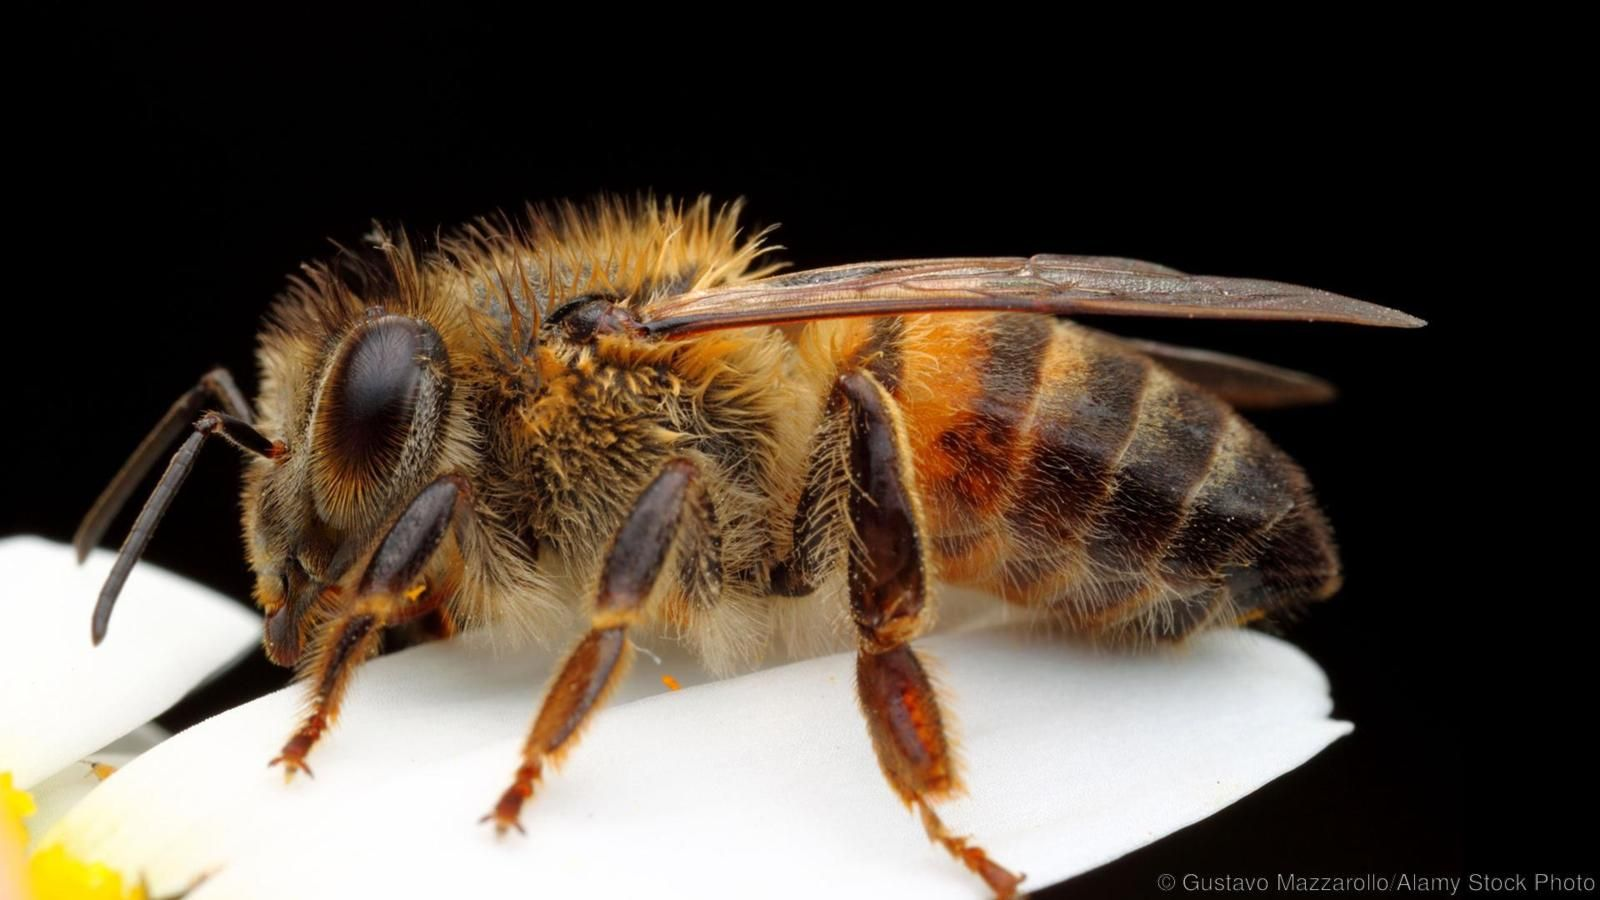Africanized Honey Bee: (73, 172, 1432, 895)
